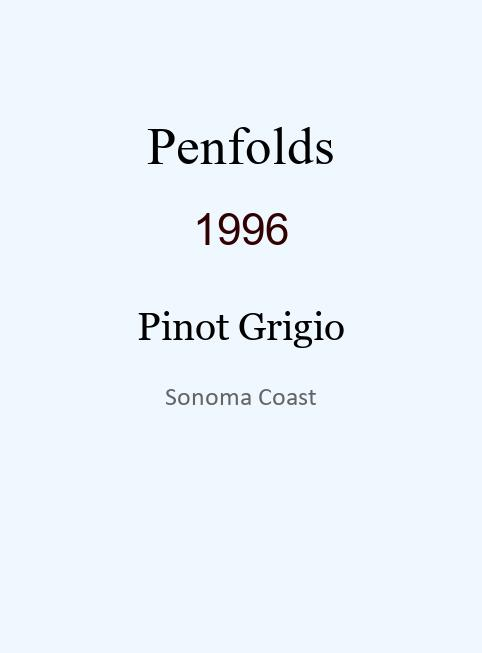brand: (147, 116, 335, 153)
region: (165, 385, 317, 401)
variety: (137, 304, 345, 341)
vintage: (193, 205, 289, 237)
